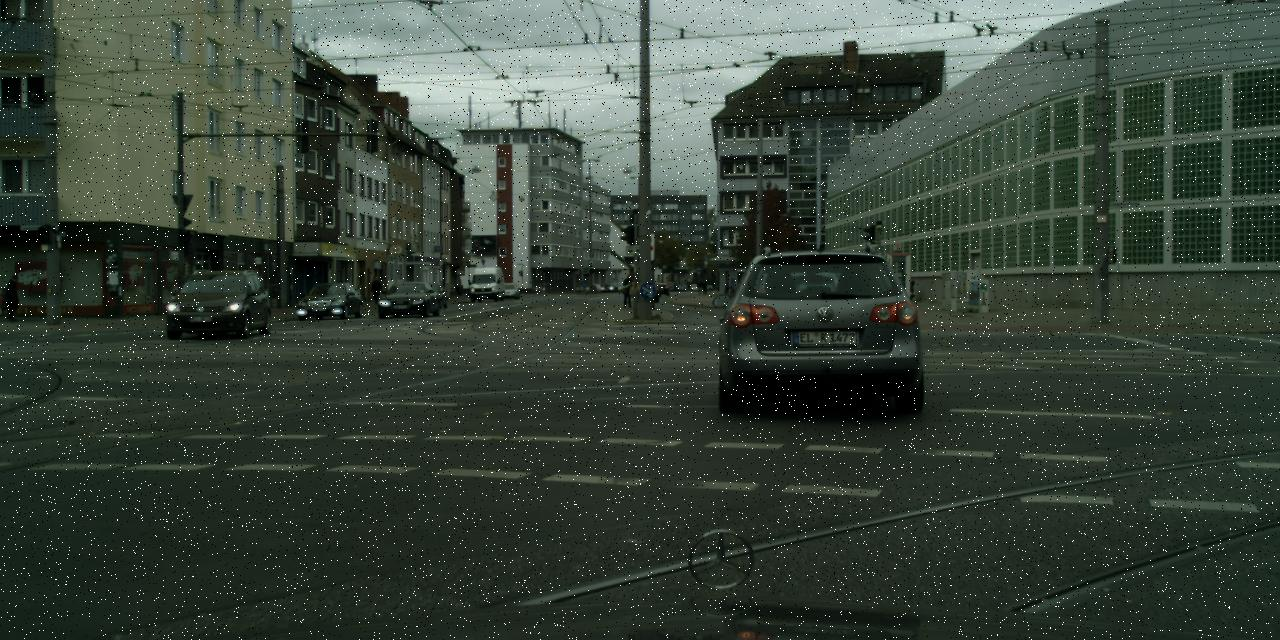ped: (4, 274, 20, 322), (620, 273, 634, 307), (371, 276, 381, 303), (697, 280, 708, 295)
